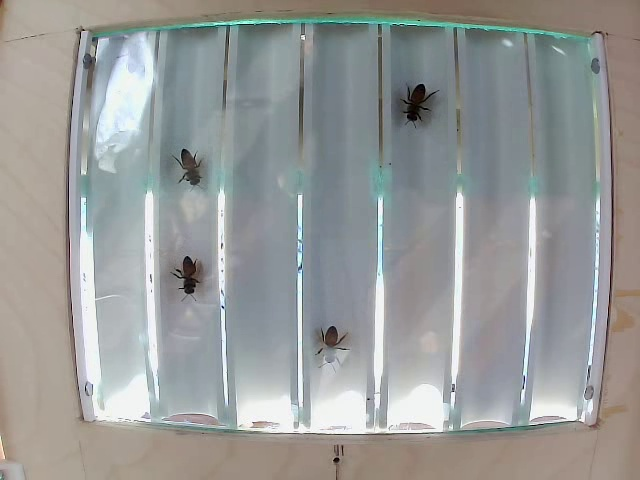bee: (400, 79, 432, 118), (174, 151, 202, 188), (318, 324, 342, 365), (176, 256, 195, 297)
